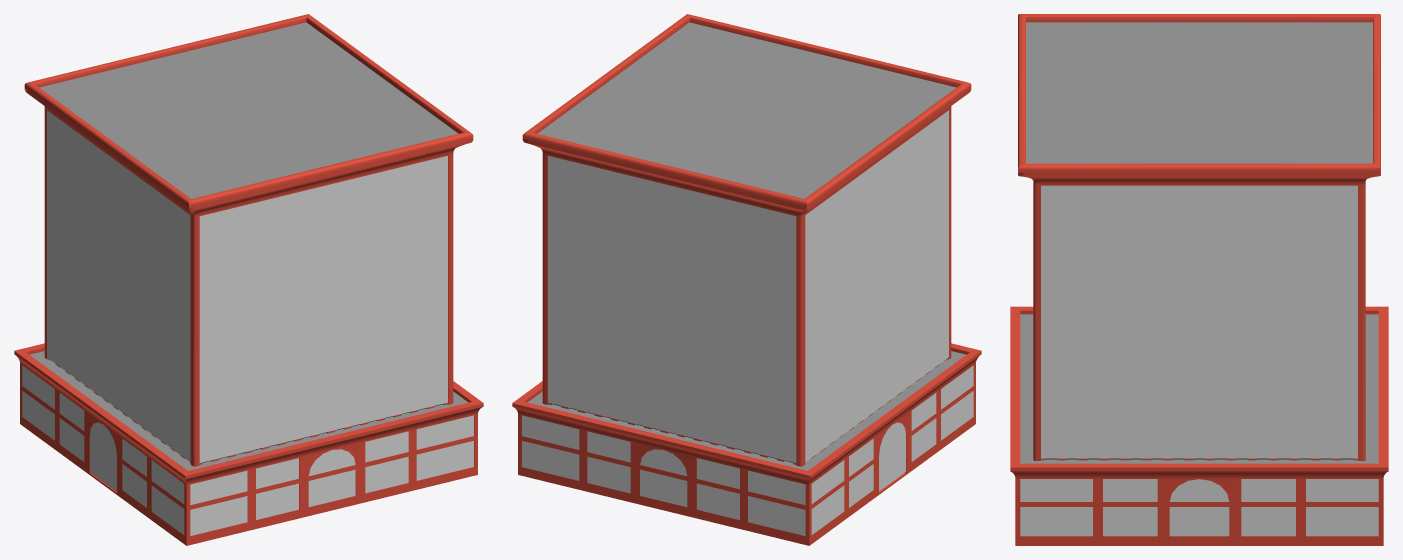
Rendered from immeuble.fbx.
3 renders of one model, left to right at view 1: azimuth 30°, elevation 25°; view 2: azimuth 150°, elevation 25°; view 3: azimuth 270°, elevation 25°, orthographic. The views are drawn at different scales.
Parts seen in each view (by area): view 1: Cube.003; view 2: Cube.003; view 3: Cube.003.
Part boxes in pixels (x1,y1,x2,y2): Cube.003: (14, 14, 483, 545); Cube.003: (512, 14, 981, 545); Cube.003: (1010, 14, 1388, 545).
Size of the model in its own units: 7183 by 7858 by 7133.
